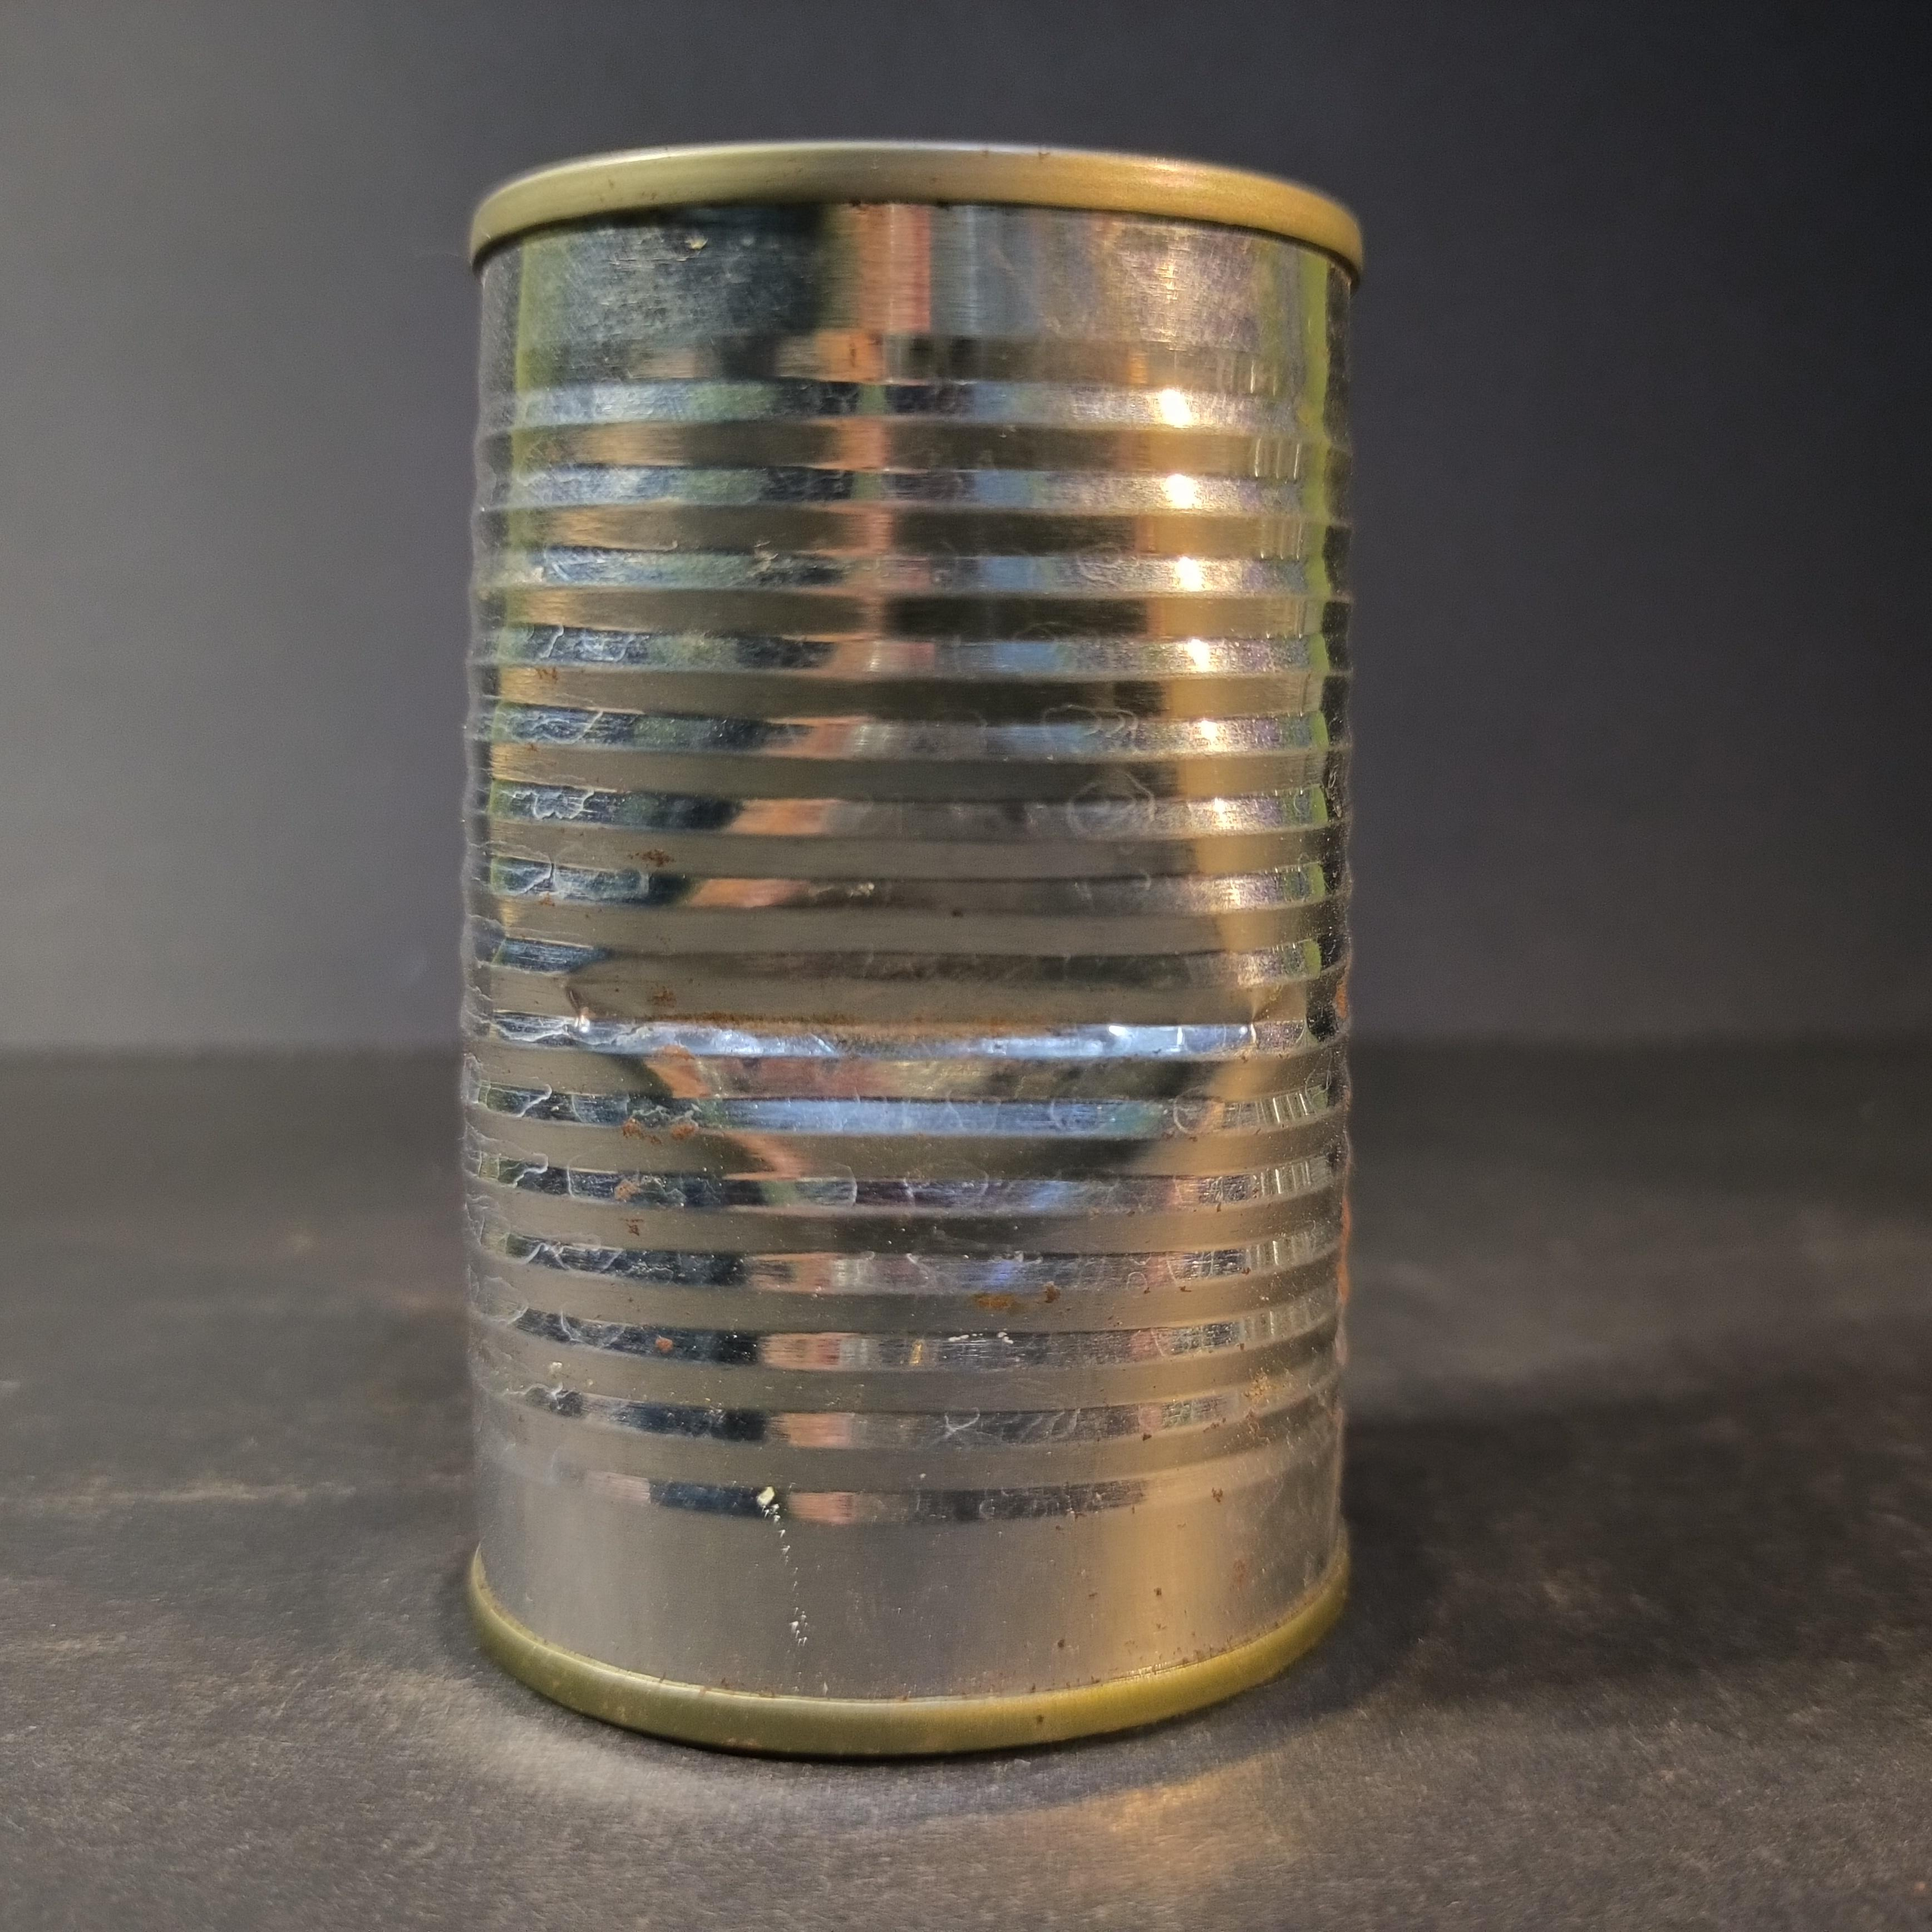Minor Defect: (441, 120, 1378, 1775)
